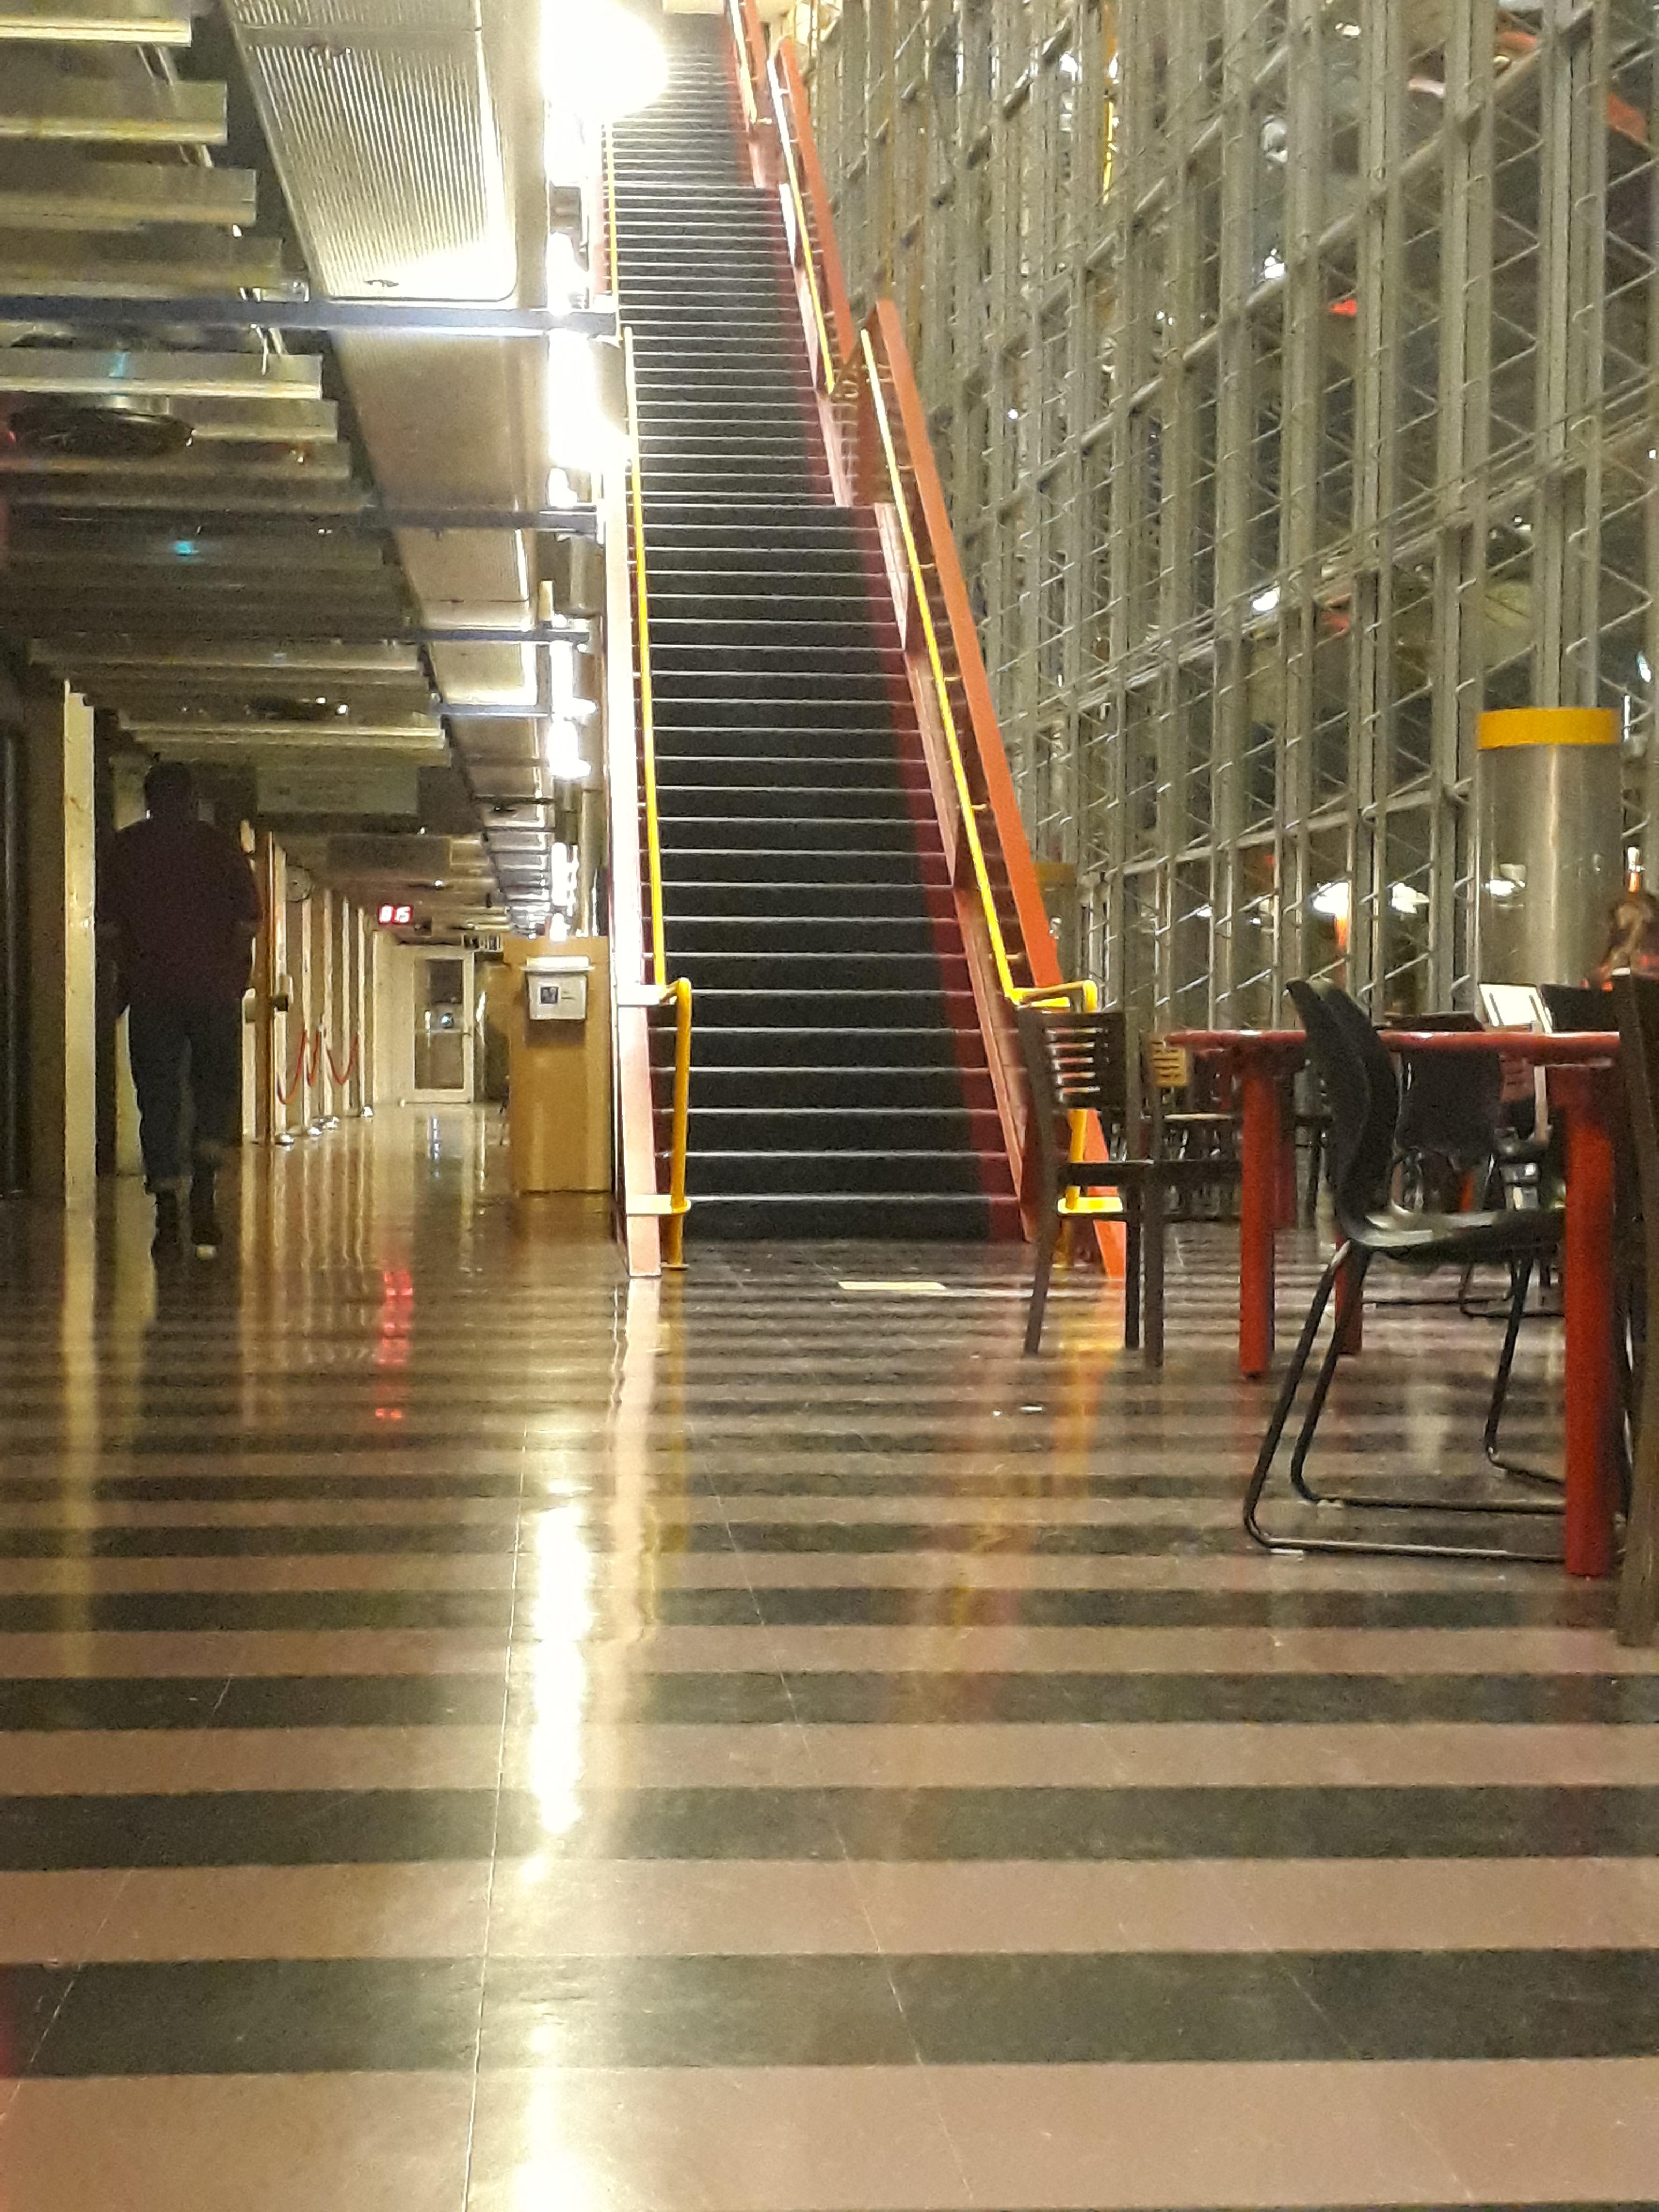door: (394, 948, 472, 1102)
person: (98, 762, 264, 1254)
sign: (537, 984, 579, 1006)
stair: (597, 12, 1027, 1242)
